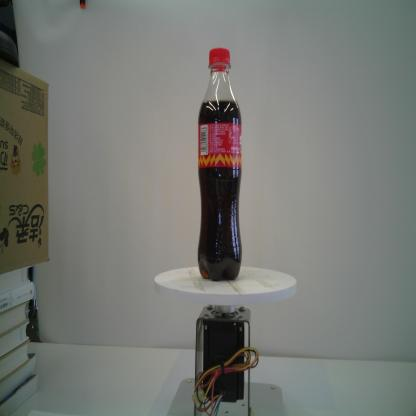Drink: (196, 45, 243, 286)
